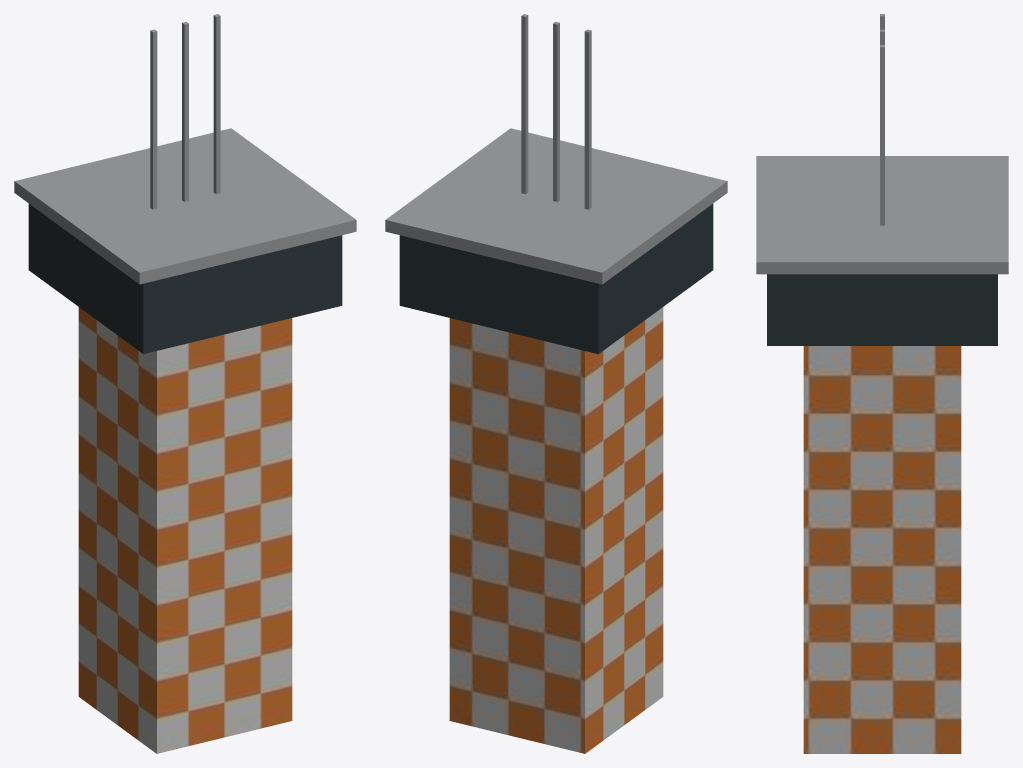
Rendered from sdsc_torre_xadrez.glb.
3 renders of one model, left to right at view 1: azimuth 30°, elevation 25°; view 2: azimuth 150°, elevation 25°; view 3: azimuth 270°, elevation 25°, orthographic.
Parts seen in each view (by area): view 1: sdsc_torre_xadrez; view 2: sdsc_torre_xadrez; view 3: sdsc_torre_xadrez.
Boxes of the visible parts, <box> form: sdsc_torre_xadrez: <box>14,14,356,753</box>; sdsc_torre_xadrez: <box>385,14,727,753</box>; sdsc_torre_xadrez: <box>756,14,1008,753</box>.
Bounding box in the file's own units: 9.6 × 29 × 9.6.
3 materials, 1 textured.
